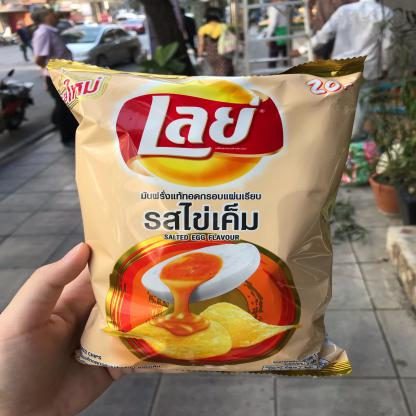potatochip: (29, 52, 375, 384)
